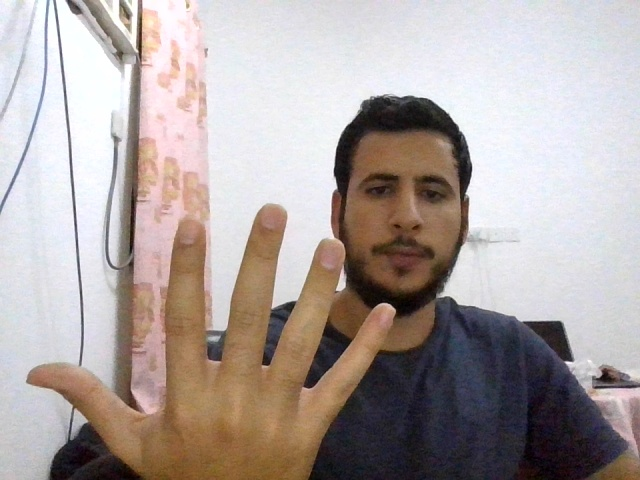Five: (24, 202, 395, 480)
